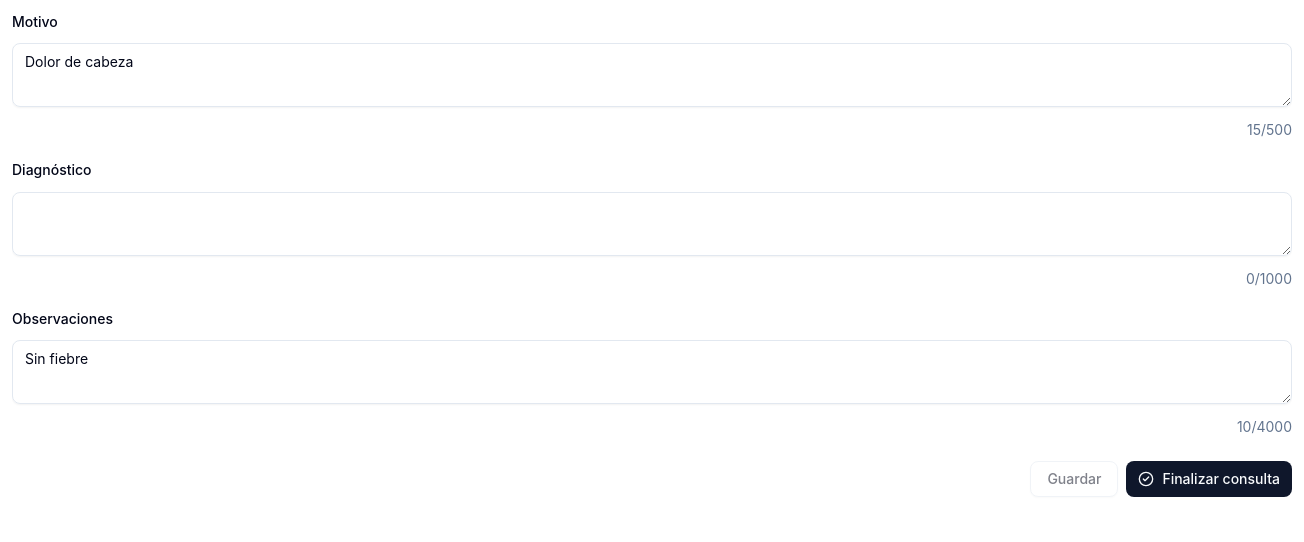
Scenario: ConsultationForm › marks the diagnosis instead of confirming when finishing without it
Click the button "Finalizar consulta" at [1209, 479], box x1=1126 y1=461 x2=1292 y2=497
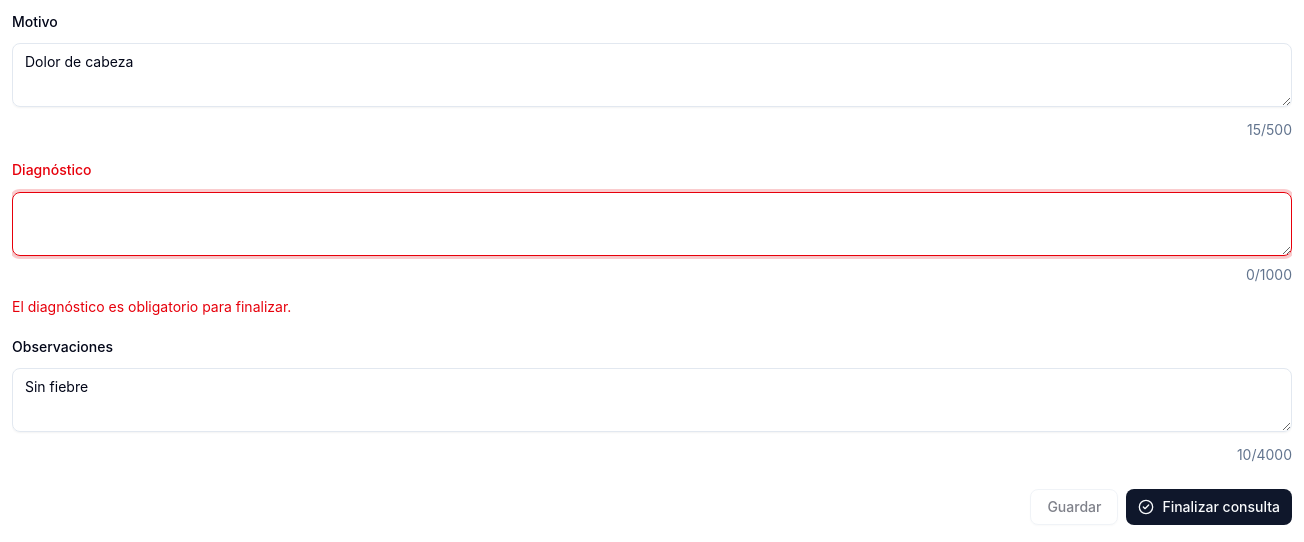
Now the text "El diagnóstico es obligatorio para finalizar." is shown, box x1=12 y1=298 x2=291 y2=314
